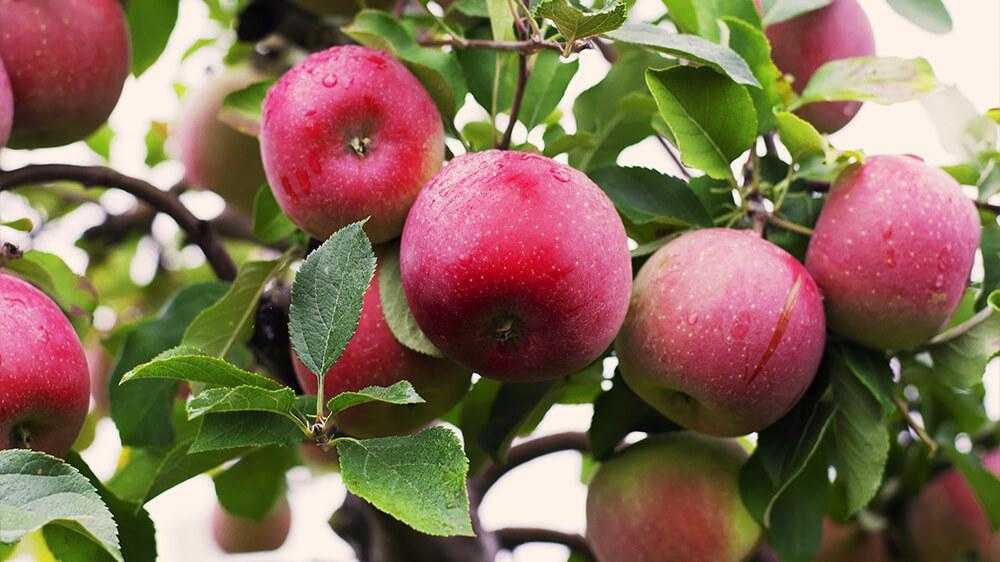apple: (395, 145, 624, 375), (624, 230, 828, 432), (255, 48, 444, 248), (801, 152, 979, 355), (585, 435, 768, 560), (1, 1, 131, 153), (1, 277, 92, 459)
